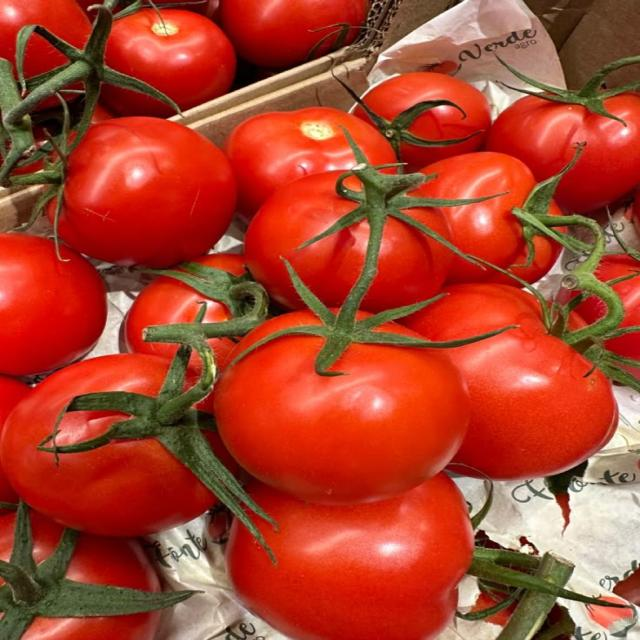tomato: (214, 335, 469, 504), (400, 284, 618, 479), (227, 473, 473, 639), (0, 354, 216, 535), (58, 117, 235, 268), (223, 107, 395, 219), (485, 92, 639, 213), (421, 152, 560, 282), (245, 171, 369, 308), (0, 233, 106, 376), (106, 9, 235, 111), (361, 72, 491, 171), (220, 0, 369, 69), (124, 276, 230, 358), (0, 0, 91, 67), (20, 611, 159, 639), (595, 254, 639, 328), (0, 376, 30, 431), (180, 0, 219, 18)
